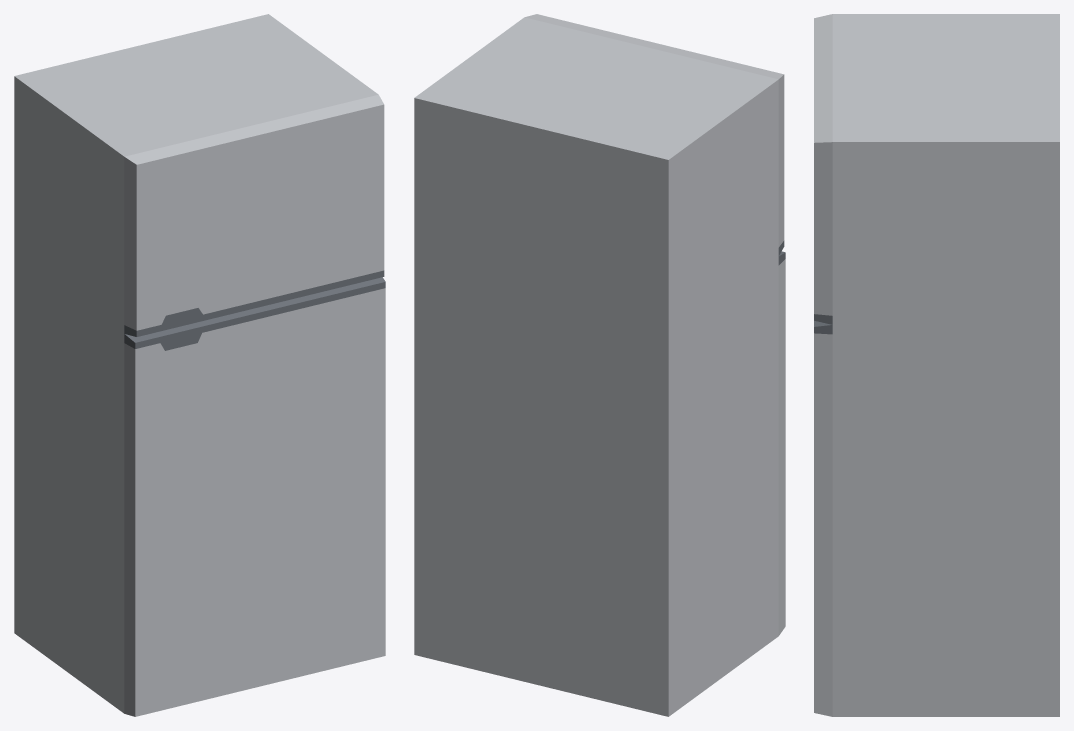
The model's file is SM_Prop_Kitchen_Fridge_01.fbx.
The picture shows the model from 3 angles, left to right: view 1: azimuth 30°, elevation 25°; view 2: azimuth 150°, elevation 25°; view 3: azimuth 270°, elevation 25°; orthographic projection. The views are drawn at different scales.
Parts seen in each view (by area): view 1: SM_Prop_Kitchen_Fridge_01; view 2: SM_Prop_Kitchen_Fridge_01; view 3: SM_Prop_Kitchen_Fridge_01.
Boxes of the visible parts, x1,y1,x2,y2 form: SM_Prop_Kitchen_Fridge_01: (14, 14, 385, 716); SM_Prop_Kitchen_Fridge_01: (414, 14, 785, 716); SM_Prop_Kitchen_Fridge_01: (814, 14, 1059, 716).
Bounding box in the file's own units: 100 × 209 × 81.13.
